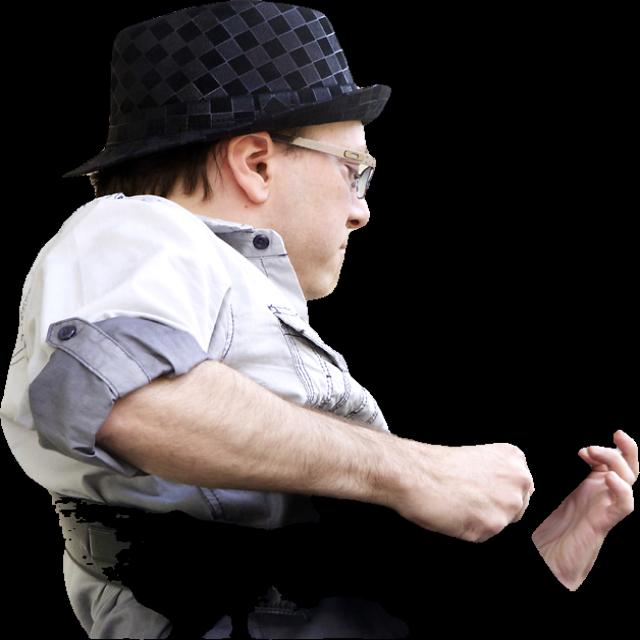Pessoa: (0, 0, 535, 639)
